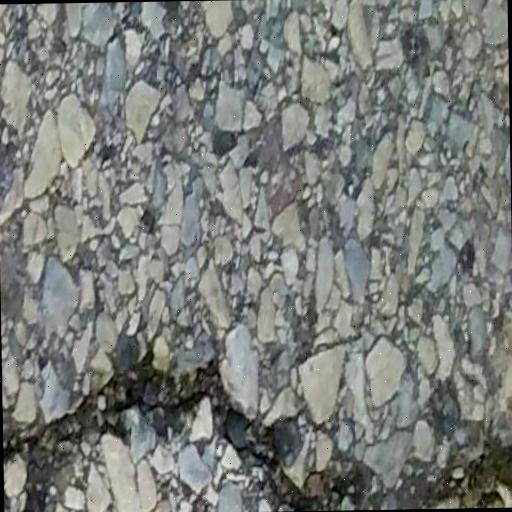spalling: (9, 335, 509, 509)
